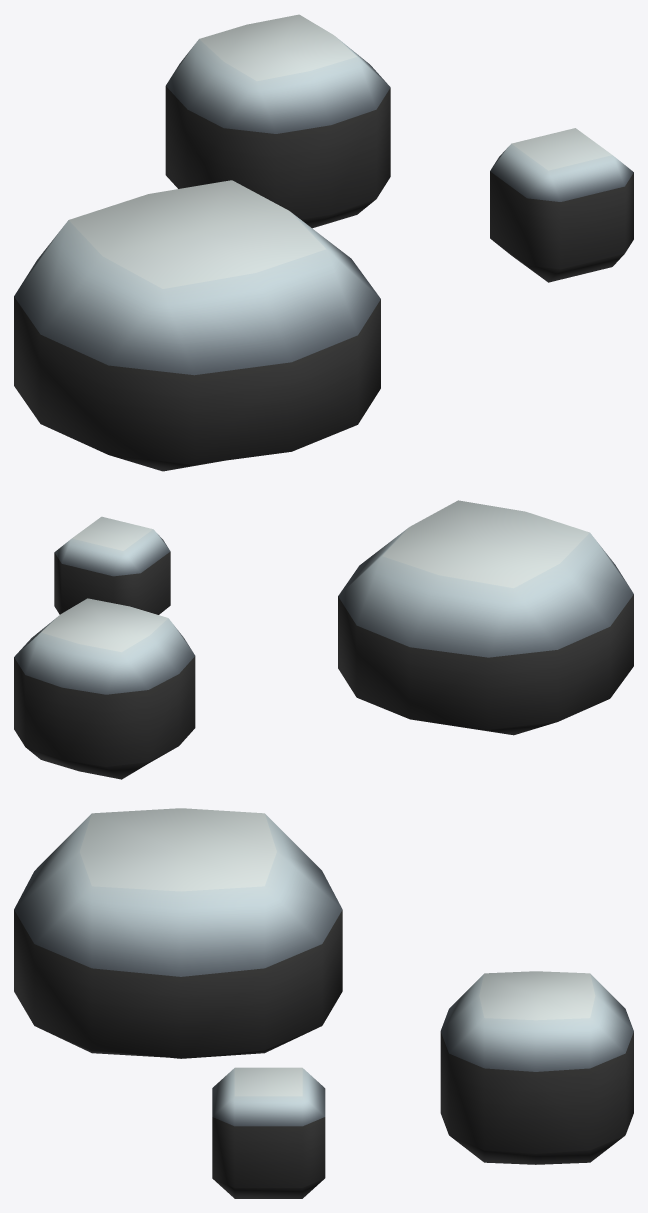
File: Pebbles_Snow_3.fbx
The picture shows the model from 3 angles, top to bottom: view 1: azimuth 30°, elevation 25°; view 2: azimuth 150°, elevation 25°; view 3: azimuth 270°, elevation 25°; orthographic projection. The views are drawn at different scales.
Visible parts, largest first — view 1: Pebbles_Snow_3_LOD0; view 2: Pebbles_Snow_3_LOD0; view 3: Pebbles_Snow_3_LOD0.
Part boxes in pixels (x1,y1,x2,y2): Pebbles_Snow_3_LOD0: (14,14,633,471); Pebbles_Snow_3_LOD0: (14,500,633,779); Pebbles_Snow_3_LOD0: (14,808,633,1198).
Size of what is drawn, in the model's own units: 0.6555 by 0.1834 by 0.6175.
